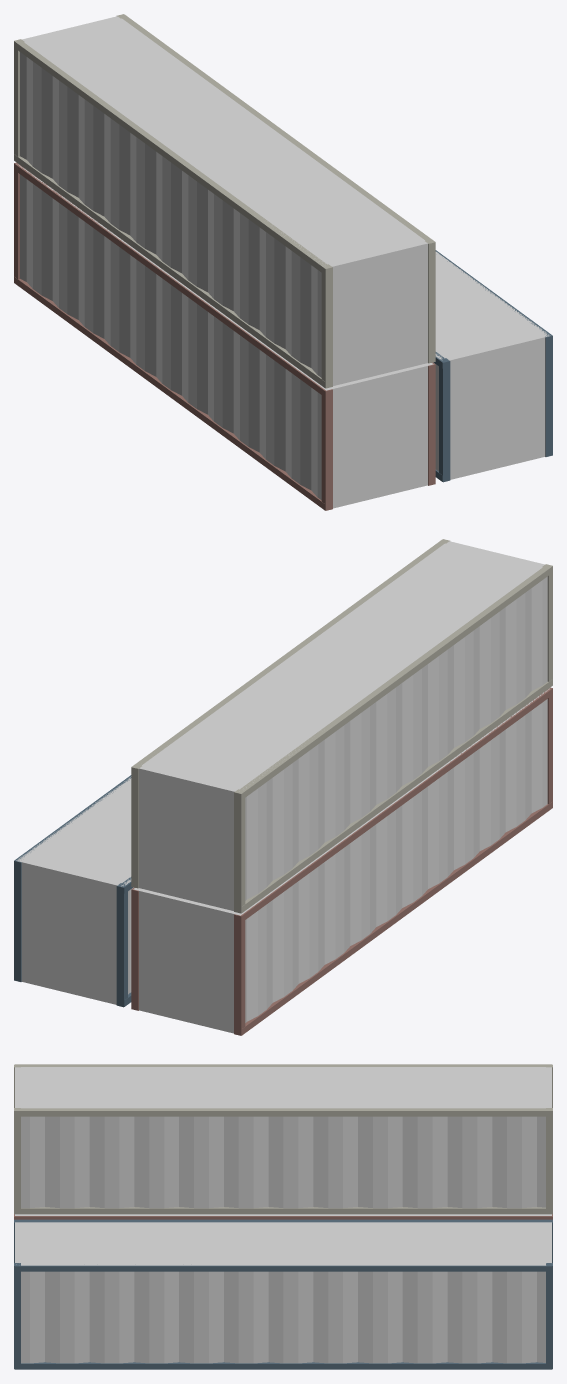
3 renders of one model, top to bottom at view 1: azimuth 30°, elevation 25°; view 2: azimuth 150°, elevation 25°; view 3: azimuth 270°, elevation 25°, orthographic. The views are drawn at different scales.
Visible parts, largest first — view 1: Visual; view 2: Visual; view 3: Visual.
Boxes of the visible parts, box(x1,y1,x2,y2) form: Visual: box(14, 14, 552, 510); Visual: box(14, 539, 552, 1035); Visual: box(14, 1064, 552, 1369).
Size of the model in its own units: 5.16 by 5.24 by 12.24.
